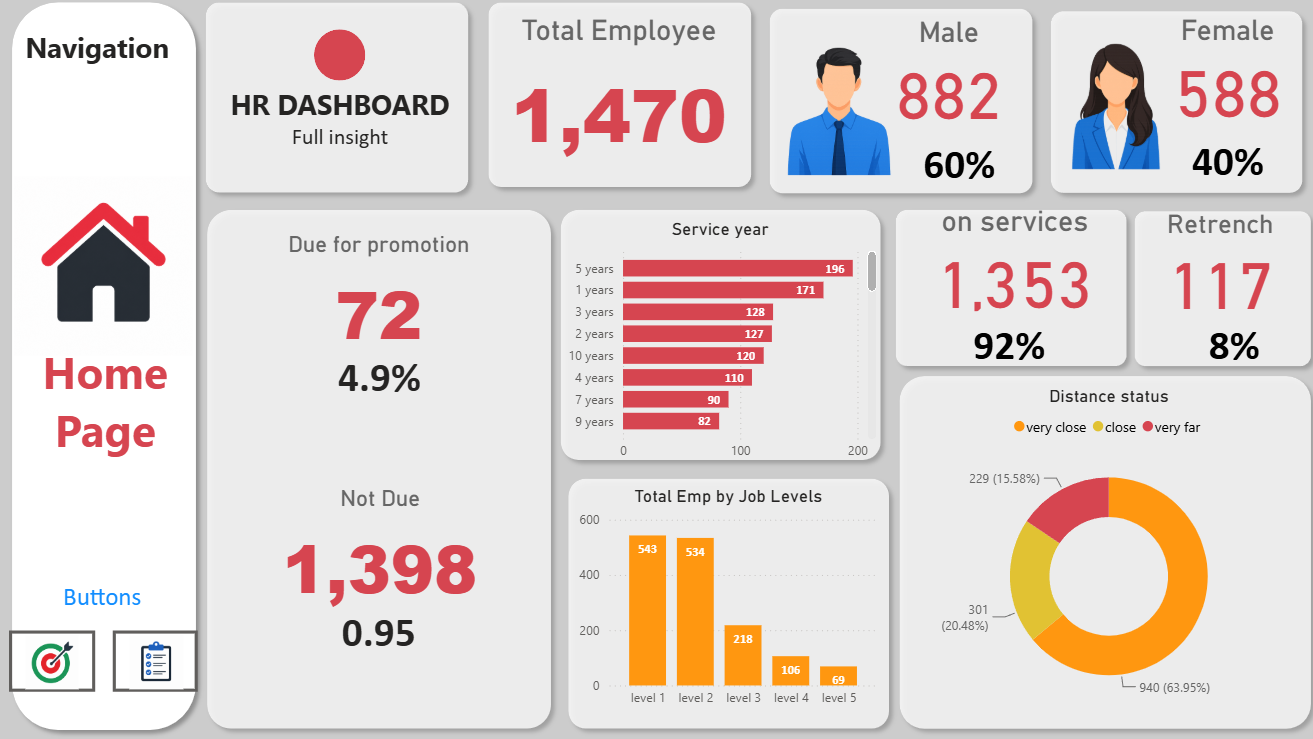

The page's visual inventory and layout, read from the dashboard file:
{"tool":"powerbi","page":{"name":"Home","canvas":[1280,720],"ordinal":0},"visuals":[{"type":"shape","box":[1011.3,8.2,260.7,193.5],"z":0},{"type":"shape","box":[739.6,5.5,271.7,196.2],"z":1000},{"type":"shape","box":[8.4,0,195.4,720.2],"z":2000},{"type":"shape","box":[195.6,0,271.2,201.5],"z":3000},{"type":"shape","box":[860.9,199.7,240.7,168.7],"z":4000},{"type":"shape","box":[196.2,200.3,349.9,518.7],"z":5000},{"type":"shape","box":[537.9,200.3,326.6,259.3],"z":6000},{"type":"shape","box":[545.8,460.2,327.5,259.3],"z":7000},{"type":"shape","box":[1091.8,201.5,188.2,167.7],"z":8000},{"type":"shape","box":[865,360.7,415,358.3],"z":9000},{"type":"textbox","box":[213.4,84.4,240.7,54.6],"z":10000},{"type":"textbox","box":[213.4,120.3,240.7,39.7],"z":11000},{"type":"shape","box":[308.9,34.7,49.6,49.6],"z":12000},{"type":"card","title":"Due for promotion","fields":{"Values":["All Measures.Due for promotion"]},"box":[252.5,230.5,238.8,129],"z":13000},{"type":"card","fields":{"Values":["All Measures.% Due for promotion"]},"box":[220.9,263.5,303.3,211.3],"z":14000},{"type":"card","title":"Not Due","fields":{"Values":["All Measures.Not Due"]},"box":[253.9,474.8,238.8,129],"z":15000},{"type":"card","fields":{"Values":["All Measures.% Not Due"]},"box":[219.6,509.1,304,211.1],"z":16000},{"type":"card","title":"Male","fields":{"Values":["All Measures.Male"]},"box":[832.9,22,178.4,108.4],"z":17000},{"type":"card","fields":{"Values":["All Measures.% Female"]},"box":[1117,118,148.2,83.7],"z":18000},{"type":"shape","box":[467.9,0,271.7,196.2],"z":19000},{"type":"card","title":"Total Employee","fields":{"Values":["All Measures.Total Emp"]},"box":[477.5,19.2,251.1,157.8],"z":20000},{"type":"card","title":"Female","fields":{"Values":["All Measures.Female"]},"box":[1101.9,19.2,178.4,108.4],"z":21000},{"type":"card","fields":{"Values":["All Measures.% Male"]},"box":[858,121.1,148.2,83.7],"z":22000},{"type":"barChart","title":"Service year","fields":{"Category":["HR Analytics Data.Service year"],"Y":["All Measures.Total Emp"]},"box":[545.3,217.2,311.3,242.5],"z":23000},{"type":"columnChart","fields":{"Category":["HR Analytics Data.Job Levels"],"Y":["All Measures.Total Emp"]},"box":[559.8,475.3,298,223.2],"z":24000},{"type":"card","title":"on services","fields":{"Values":["All Measures.on service"]},"box":[886.7,203.9,196.6,108.6],"z":25000},{"type":"card","fields":{"Values":["All Measures.% on services"]},"box":[906,295.6,148.4,83.2],"z":26000},{"type":"card","title":"Retrench","fields":{"Values":["All Measures.will be retreanched"]},"box":[1101.5,208.7,164.1,103.8],"z":27000},{"type":"card","fields":{"Values":["All Measures.% will be retreanched"]},"box":[1123.2,295.6,148.4,83.2],"z":28000},{"type":"donutChart","title":"Distance status","fields":{"Category":["HR Analytics Data.Distance status"],"Y":["All Measures.Total Emp"]},"box":[886.7,378.8,378.8,319.7],"z":29000},{"type":"image","box":[974.8,0,216,202.7],"z":30000},{"type":"image","box":[709.4,0,212.3,230.4],"z":31000},{"type":"actionButton","box":[114.6,615.3,82,59.1],"z":31001},{"type":"actionButton","box":[14.5,615.3,83.2,59.1],"z":31002},{"type":"image","box":[124.3,620.1,65.1,51.9],"z":31004},{"type":"image","box":[14.5,620.1,83.2,51.9],"z":31005},{"type":"textbox","box":[0,562.2,208.7,39.8],"z":31006},{"type":"textbox","box":[9.7,29,179.8,55.5],"z":31007},{"type":"textbox","box":[14.5,330.6,185.8,126.7],"z":31008},{"type":"image","box":[14.5,177.3,182.2,172.5],"z":31009}]}

Visuals, with their boxes in screenshot pixels (x1, y1, x2, y2), scaled from the page's 1280x720 canvas onto the 1313x739 screenshot:
shape: left=1037, top=8, right=1305, bottom=207
shape: left=759, top=6, right=1037, bottom=207
shape: left=9, top=0, right=209, bottom=738
shape: left=201, top=0, right=479, bottom=207
shape: left=883, top=205, right=1130, bottom=378
shape: left=201, top=206, right=560, bottom=738
shape: left=552, top=206, right=887, bottom=472
shape: left=560, top=472, right=896, bottom=738
shape: left=1120, top=207, right=1312, bottom=379
shape: left=887, top=370, right=1312, bottom=738
textbox: left=219, top=87, right=466, bottom=143
textbox: left=219, top=123, right=466, bottom=164
shape: left=317, top=36, right=368, bottom=87
"Due for promotion" card: left=259, top=237, right=504, bottom=369
card - All Measures.% Due for promotion: left=227, top=270, right=538, bottom=487
"Not Due" card: left=260, top=487, right=505, bottom=620
card - All Measures.% Not Due: left=225, top=523, right=537, bottom=738
"Male" card: left=854, top=23, right=1037, bottom=134
card - All Measures.% Female: left=1146, top=121, right=1298, bottom=207
shape: left=480, top=0, right=759, bottom=201
"Total Employee" card: left=490, top=20, right=747, bottom=182
"Female" card: left=1130, top=20, right=1312, bottom=131
card - All Measures.% Male: left=880, top=124, right=1032, bottom=210
"Service year" barChart: left=559, top=223, right=879, bottom=472
columnChart - HR Analytics Data.Job Levels x All Measures.Total Emp: left=574, top=488, right=880, bottom=717
"on services" card: left=910, top=209, right=1111, bottom=321
card - All Measures.% on services: left=929, top=303, right=1082, bottom=389
"Retrench" card: left=1130, top=214, right=1298, bottom=321
card - All Measures.% will be retreanched: left=1152, top=303, right=1304, bottom=389
"Distance status" donutChart: left=910, top=389, right=1298, bottom=717
image: left=1000, top=0, right=1222, bottom=208
image: left=728, top=0, right=945, bottom=236
actionButton: left=118, top=632, right=202, bottom=692
actionButton: left=15, top=632, right=100, bottom=692
image: left=128, top=636, right=194, bottom=690
image: left=15, top=636, right=100, bottom=690
textbox: left=0, top=577, right=214, bottom=618
textbox: left=10, top=30, right=194, bottom=87
textbox: left=15, top=339, right=205, bottom=469
image: left=15, top=182, right=202, bottom=359
